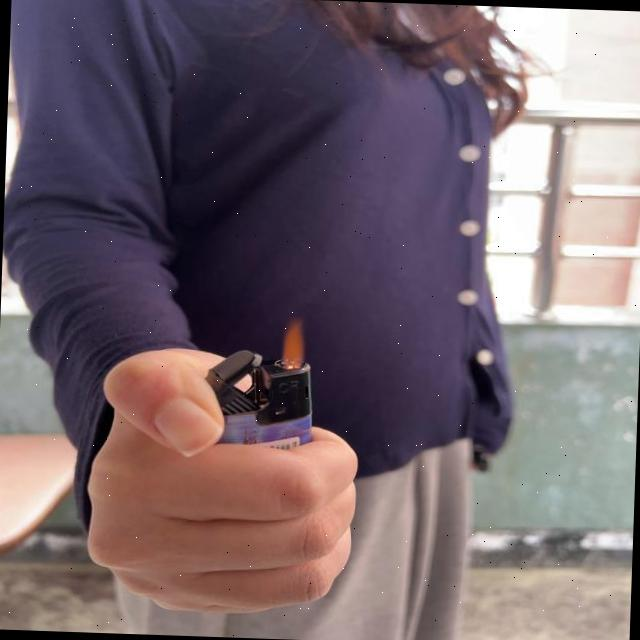fire: (278, 314, 305, 372)
